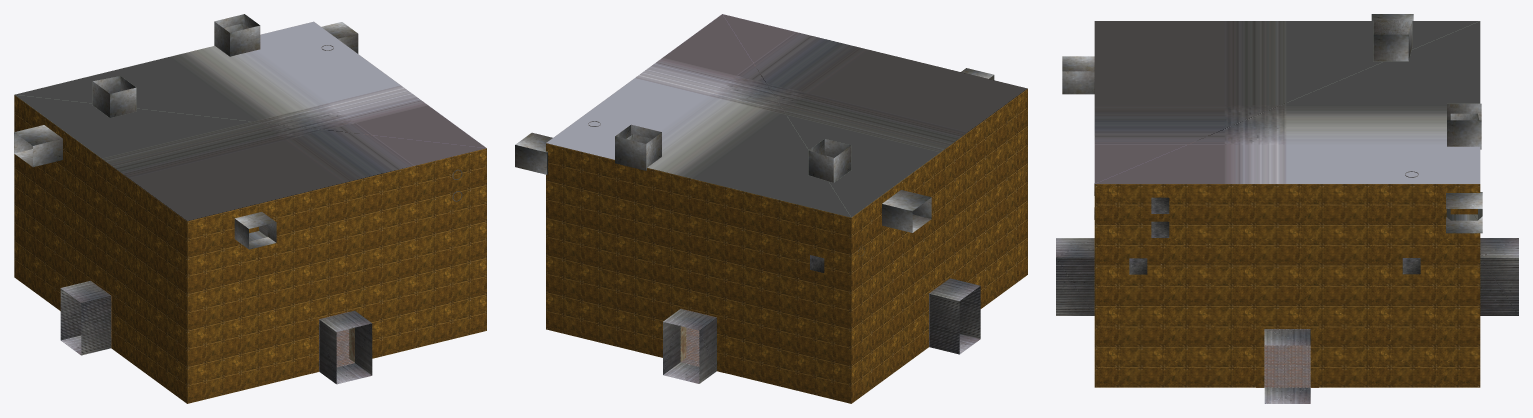
Rendered from room_4.fbx.
3 renders of one model, left to right at view 1: azimuth 30°, elevation 25°; view 2: azimuth 150°, elevation 25°; view 3: azimuth 270°, elevation 25°, orthographic. The views are drawn at different scales.
Parts seen in each view (by area): view 1: Plane.002, Plane.004, Plane.001, Plane.003, Plane.007, Floor4; view 2: Plane.002, Plane.004, Plane.001, Plane.003, Plane.006, Floor4; view 3: Plane.002, Plane.004, Plane.001, Plane.006, Plane.007, Floor4, Plane.005.
Boxes of the visible parts, x1=… form: Plane.002: x1=14, y1=95, x2=486, y2=403; Plane.004: x1=15, y1=21, x2=486, y2=221; Plane.001: x1=14, y1=14, x2=358, y2=249; Plane.003: x1=60, y1=281, x2=110, y2=355; Plane.007: x1=319, y1=311, x2=372, y2=384; Floor4: x1=101, y1=288, x2=354, y2=371; Plane.002: x1=546, y1=88, x2=1027, y2=403; Plane.004: x1=546, y1=14, x2=1027, y2=217; Plane.001: x1=515, y1=68, x2=994, y2=232; Plane.003: x1=929, y1=278, x2=980, y2=354; Plane.006: x1=663, y1=309, x2=716, y2=383; Floor4: x1=681, y1=286, x2=939, y2=366; Plane.002: x1=1094, y1=184, x2=1480, y2=387; Plane.004: x1=1094, y1=21, x2=1480, y2=183; Plane.001: x1=1062, y1=14, x2=1482, y2=233; Plane.006: x1=1480, y1=238, x2=1518, y2=315; Plane.007: x1=1056, y1=238, x2=1094, y2=315; Floor4: x1=1264, y1=329, x2=1310, y2=387; Plane.005: x1=1264, y1=329, x2=1310, y2=403.
Bounding box in the file's own units: 1201 × 661 × 1200.
